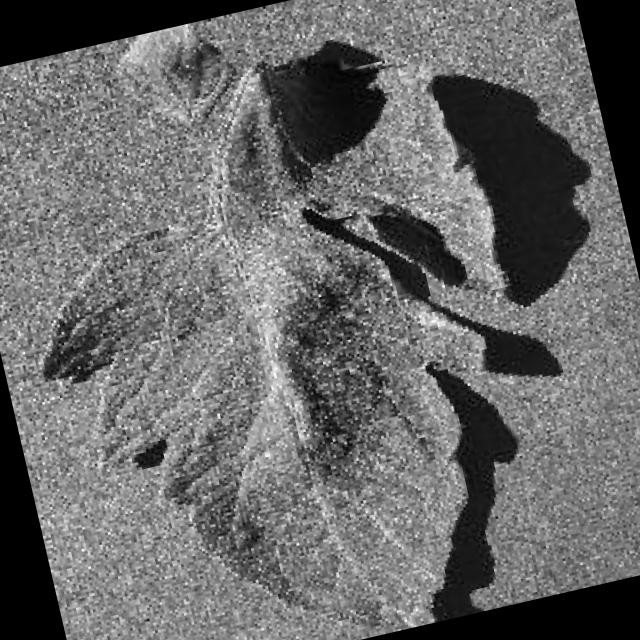healthy: (33, 22, 505, 628)
